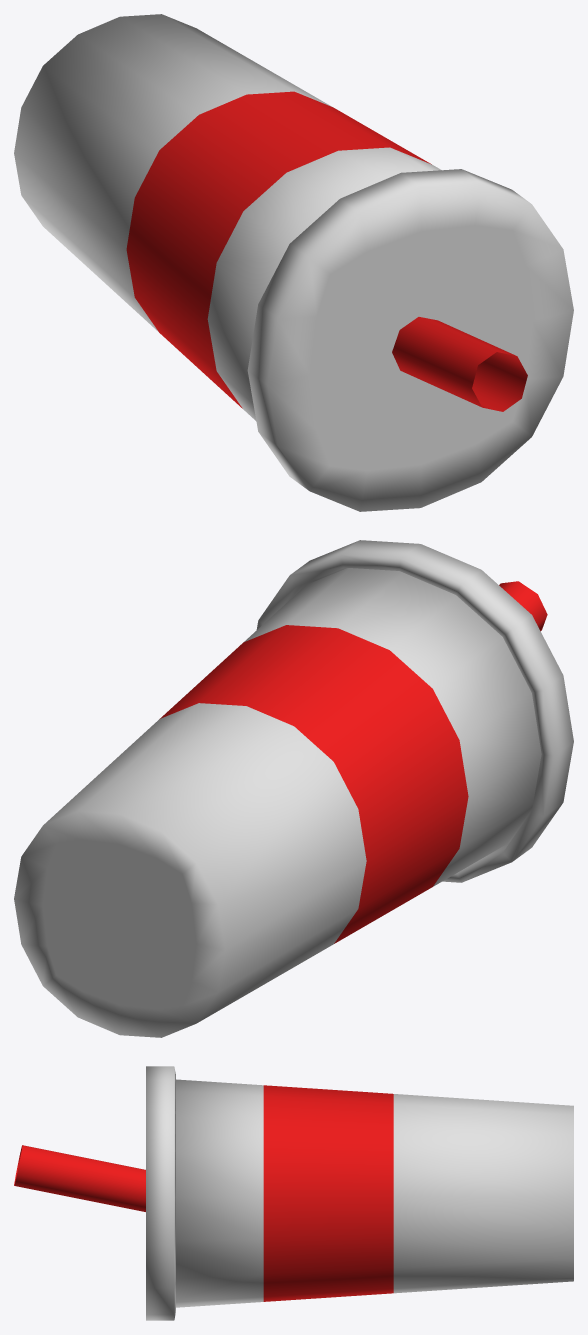
The model's file is drink.fbx.
3 renders of one model, top to bottom at view 1: azimuth 30°, elevation 25°; view 2: azimuth 150°, elevation 25°; view 3: azimuth 270°, elevation 25°, orthographic. The views are drawn at different scales.
Parts seen in each view (by area): view 1: drink; view 2: drink; view 3: drink.
Part boxes in pixels (x1,y1,x2,y2): drink: (14, 14, 573, 511); drink: (14, 540, 573, 1037); drink: (14, 1066, 573, 1320).
Bounding box in the file's own units: 0.3957 × 0.3957 × 0.8814.
